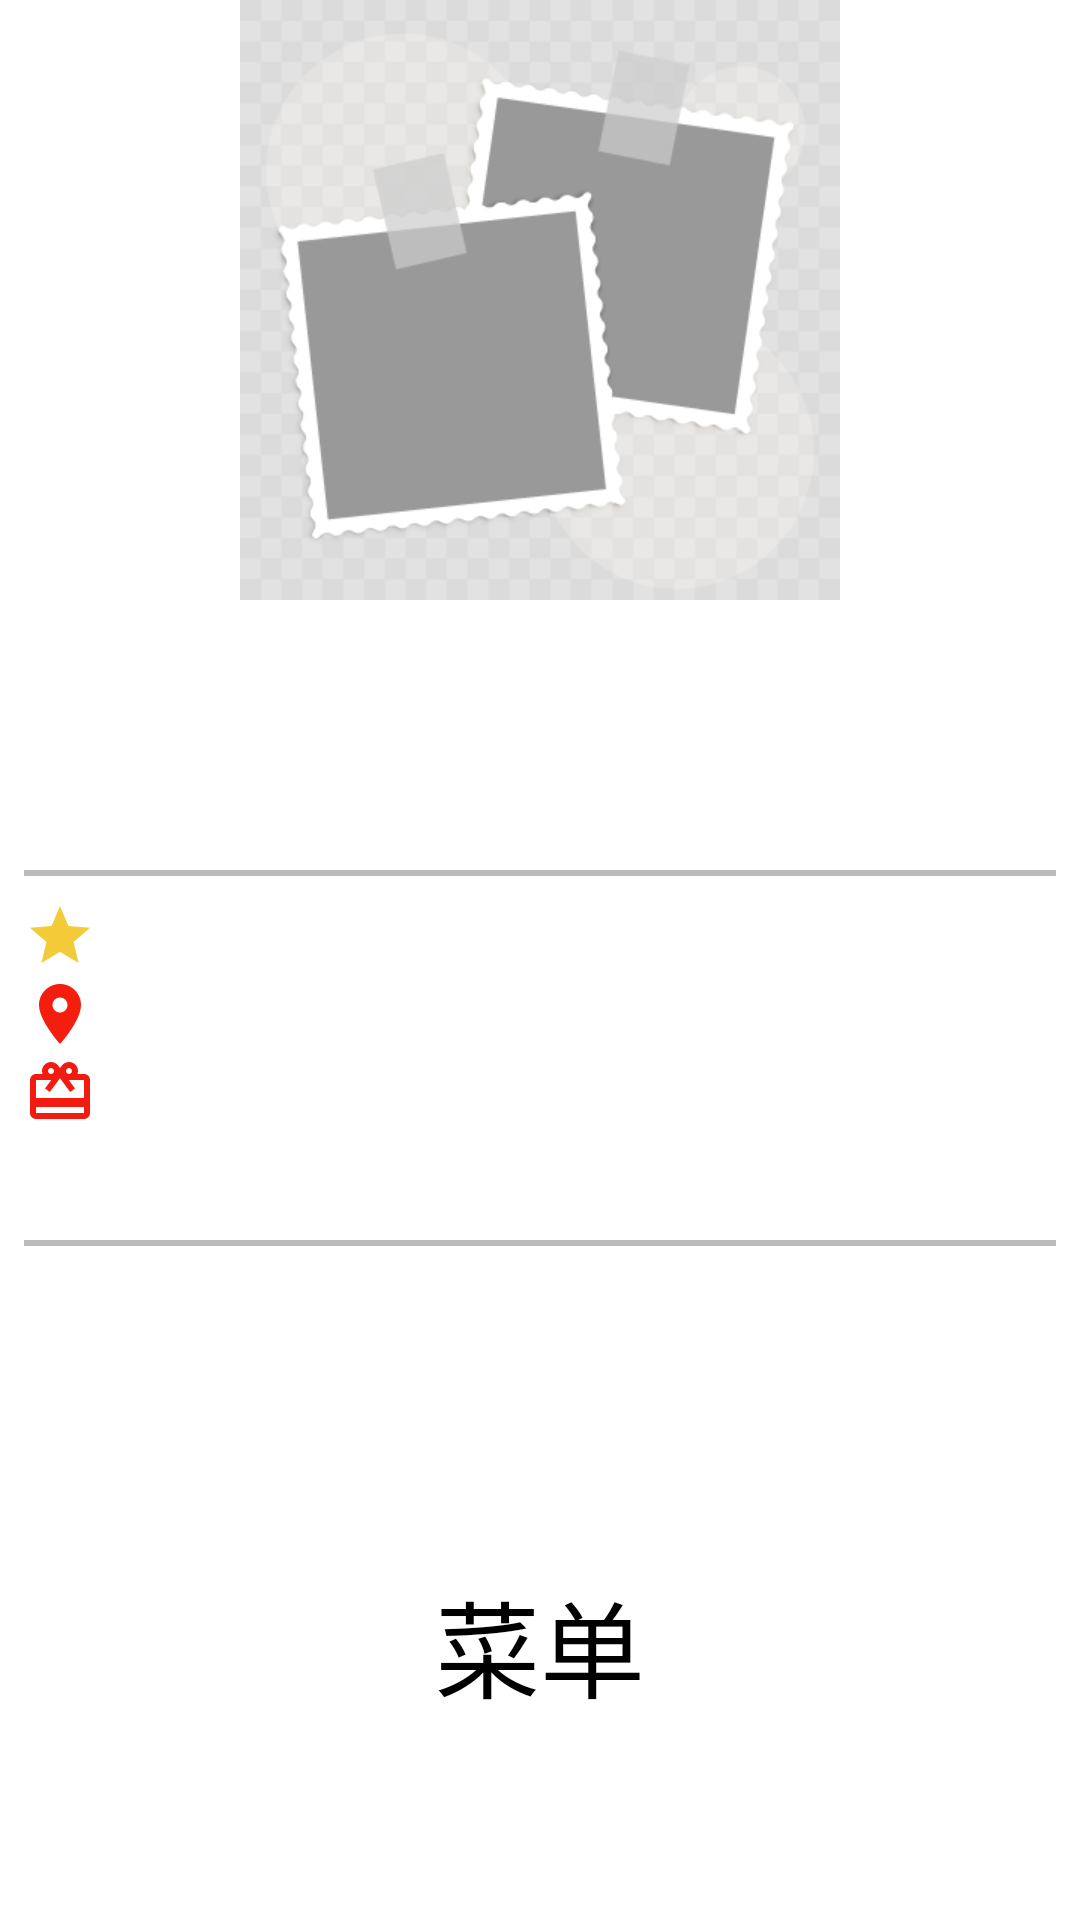

Locate icon controls on the screen. Image size 1080*1920, boxes as (x1, y1, x2, y2).
location: (39, 984, 81, 1044)
promo: (30, 1062, 90, 1119)
star: (30, 906, 90, 963)
